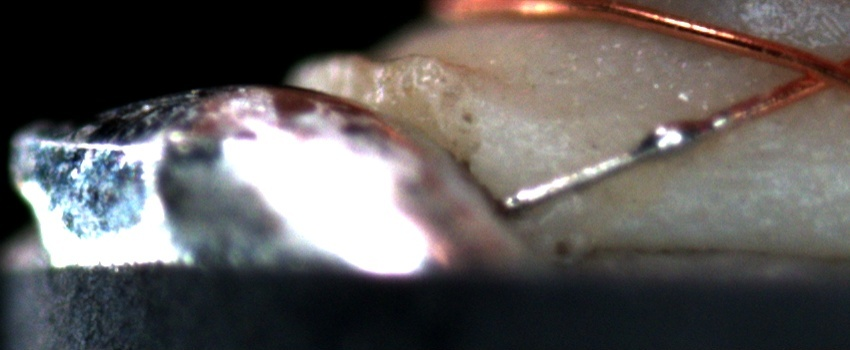CL: (777, 46, 845, 100)
DL: (642, 134, 850, 198), (500, 104, 629, 136)
TB: (640, 117, 699, 154)
TS: (500, 112, 728, 214)
TTCW: (494, 98, 767, 218)
